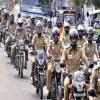motorcycles: (30, 46, 48, 100), (68, 62, 88, 100), (49, 51, 64, 100), (14, 37, 26, 77)
